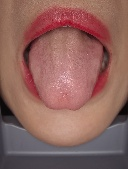tongue: (27, 37, 105, 112)
